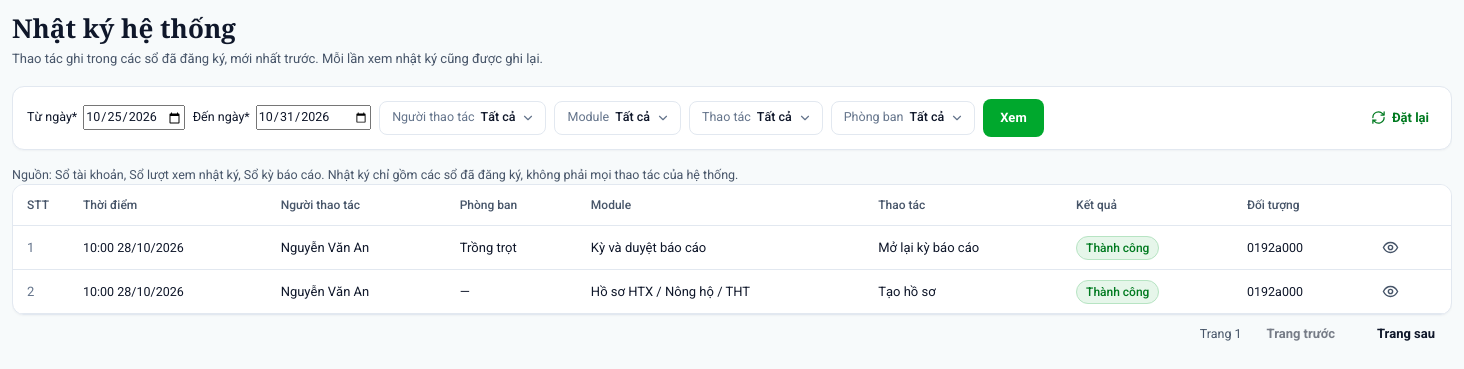
Test: AUDIT-LOG-KN — màn Nhật ký hệ thống › STT, tên người thao tác, nhãn thao tác, độ phủ nguồn; Trang sau gửi cursor cùng bộ lọc, STT nối tiếp
Expected: the 2nd row shows "1", 27,240 -> 34,255
Expected: the 2nd row shows "Mở lại kỳ báo cáo", 878,240 -> 979,255
Step 1. Click the button "Trang sau" → [1406, 334], box 1360,315 -> 1452,353
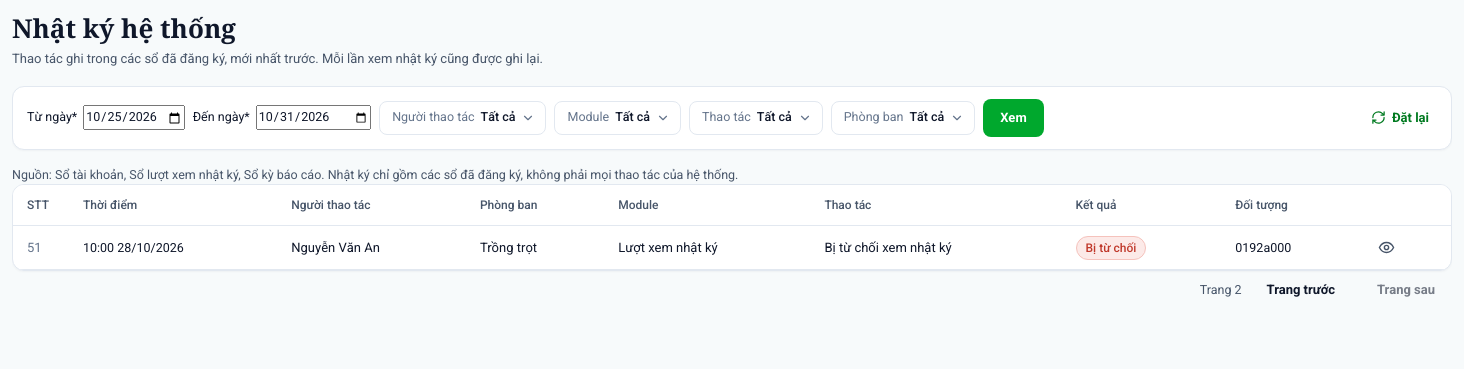
Now the row that starts with "Nguyễn Văn An" shows "51", box 27,240 -> 42,255
Now the button "Trang sau" is disabled, box 1360,271 -> 1452,309
